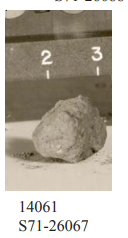Breccia: (28, 93, 91, 171)
